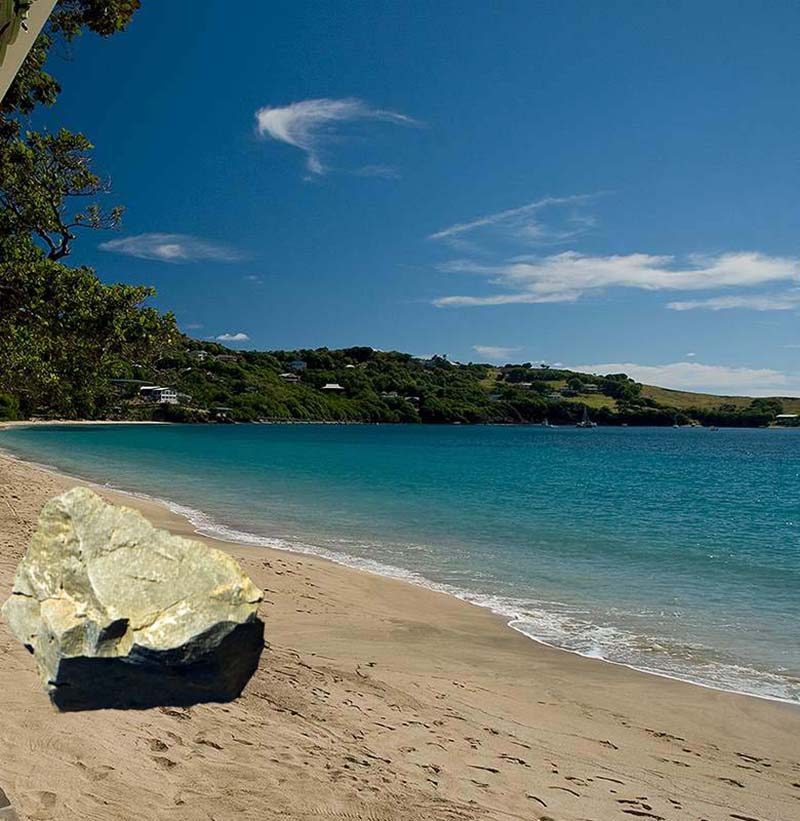Rocks: (7, 481, 279, 723)
